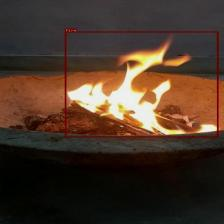fire: (64, 31, 218, 137)
